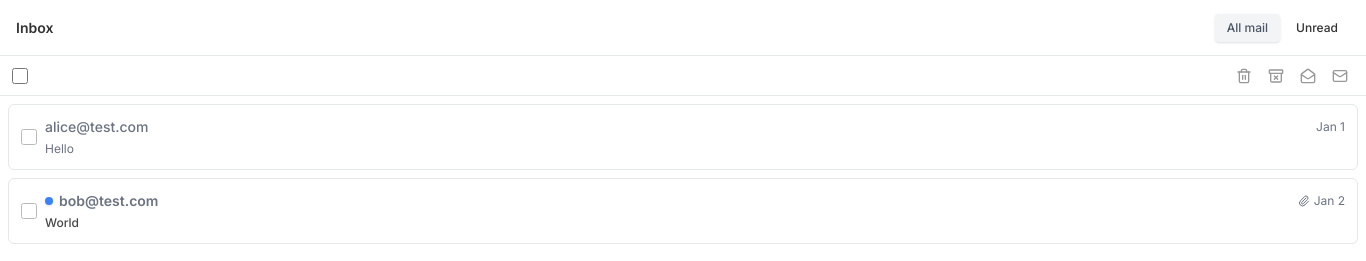
Test: MessageList — bulk action toolbar › clicking a message checkbox selects it and enables action buttons
This screenshot has width=1366, height=261.
Step 1. Click the 1st checkbox named "Select email" → x=29, y=137, box left=21, top=129, right=37, bottom=145
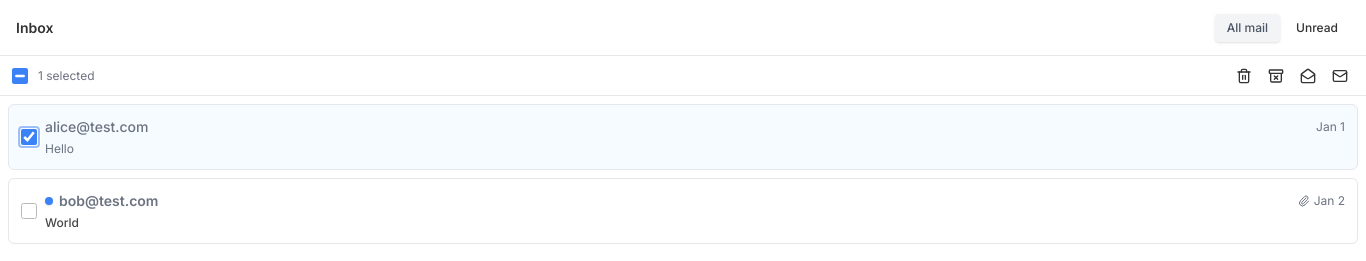
expect the button with test id "bulk-delete-button" is enabled: met, box left=1230, top=62, right=1258, bottom=90
expect the text with test id "selection-count" reads "1 selected": met, box left=38, top=68, right=94, bottom=84
